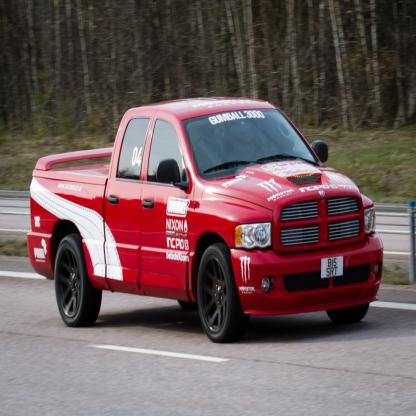Truck: (26, 96, 384, 344)
